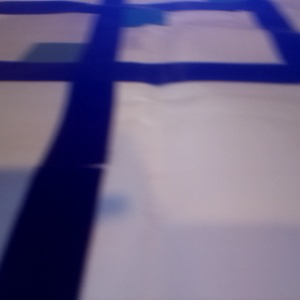top_left: (22, 43, 114, 81)
top_right: (98, 5, 164, 26)
